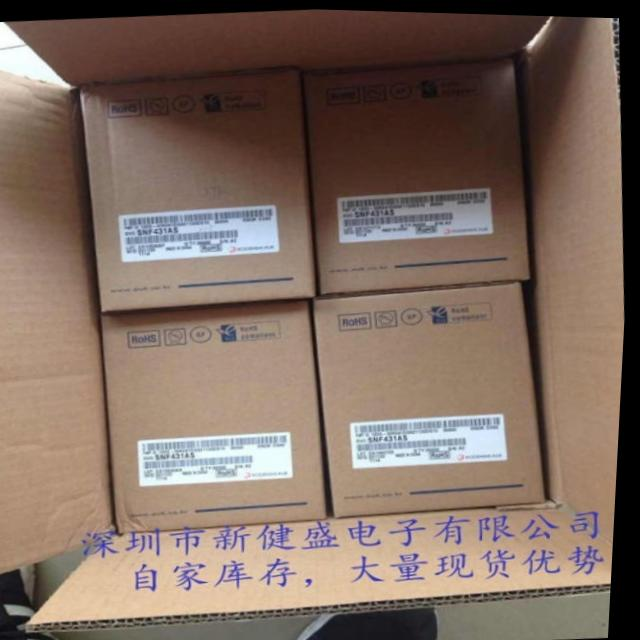box: (79, 63, 321, 312), (302, 50, 535, 294), (318, 278, 552, 516), (103, 298, 334, 532)
